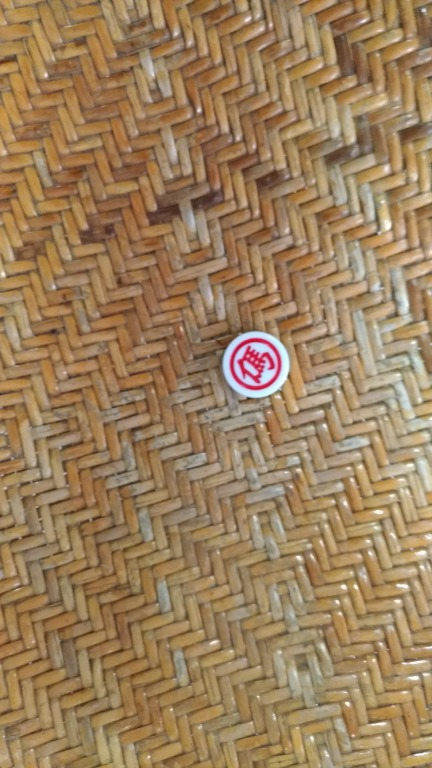r-knight: (214, 329, 304, 403)
